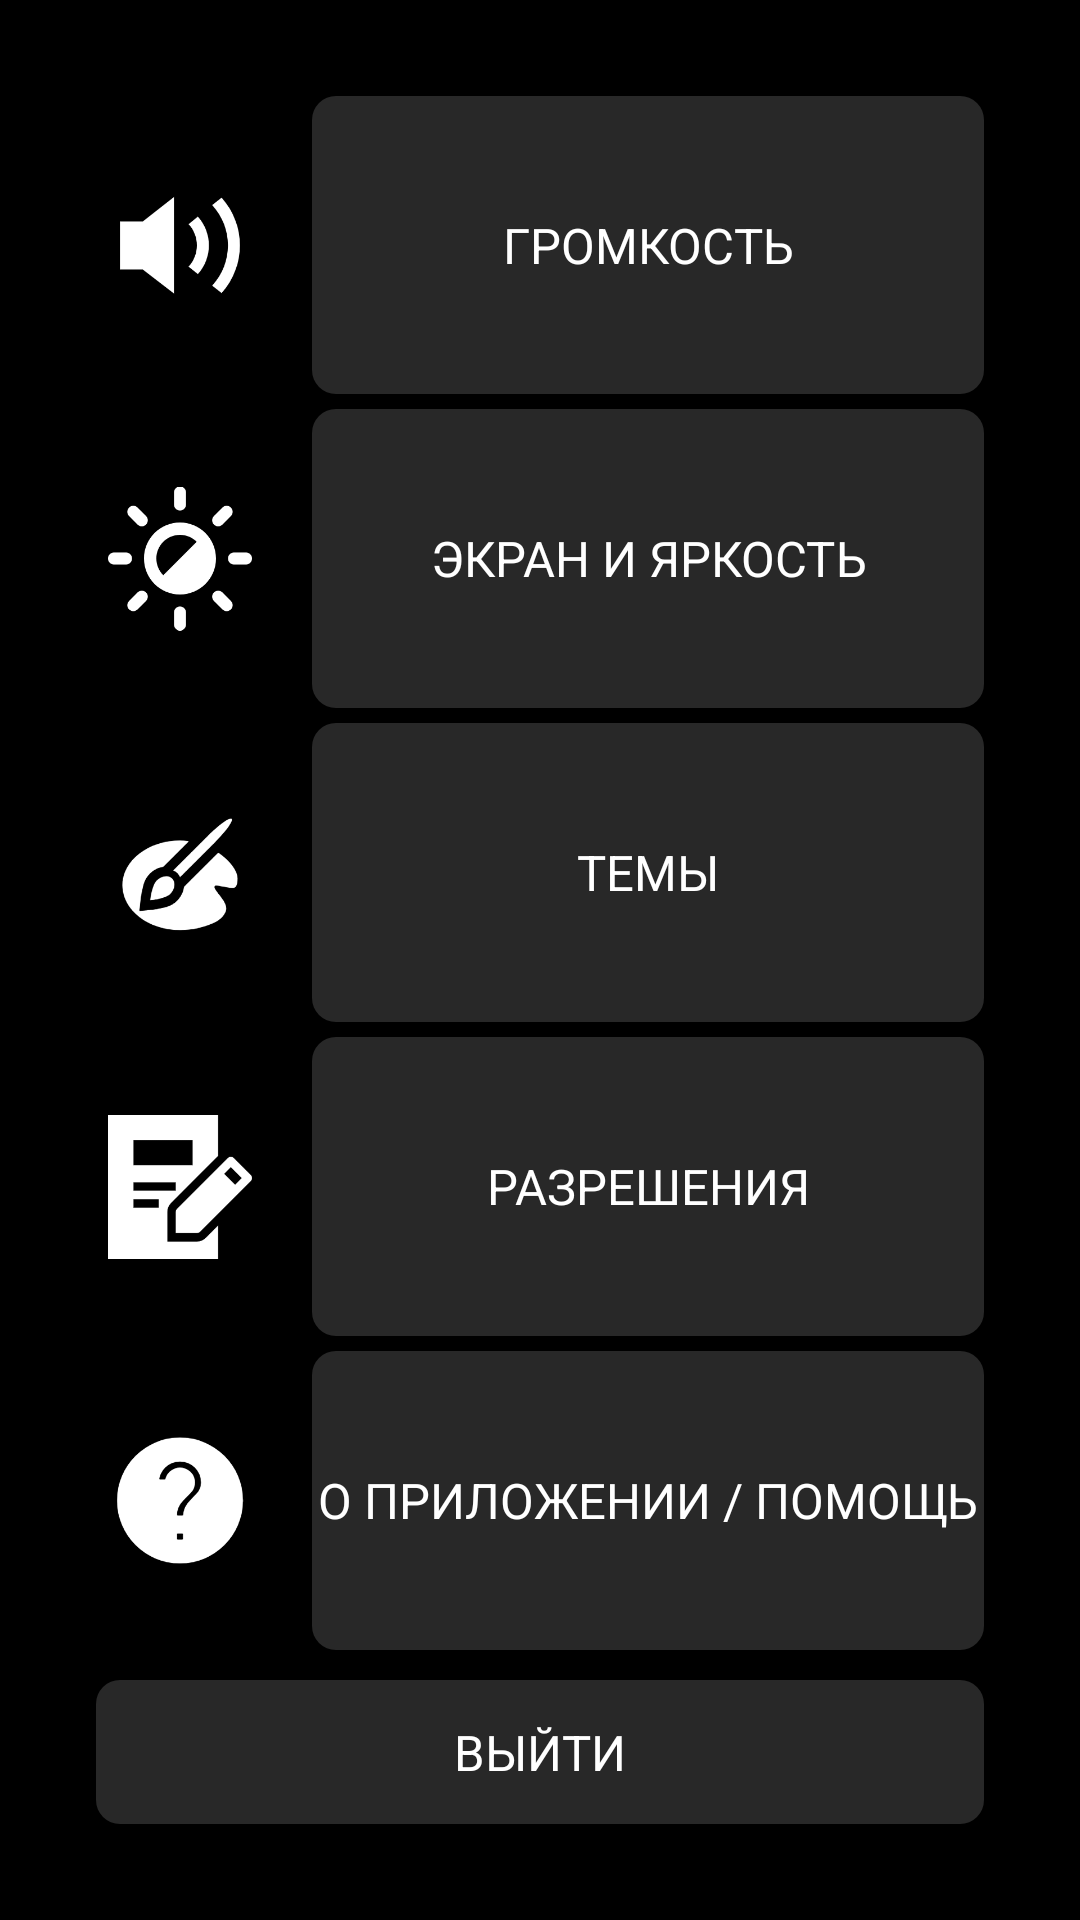

Screen size 1080px x 1920px. Icon name, then its center in pixels as (x,y):
brightness: (180,559)
help: (180,1500)
themes: (180,874)
volume: (180,245)
